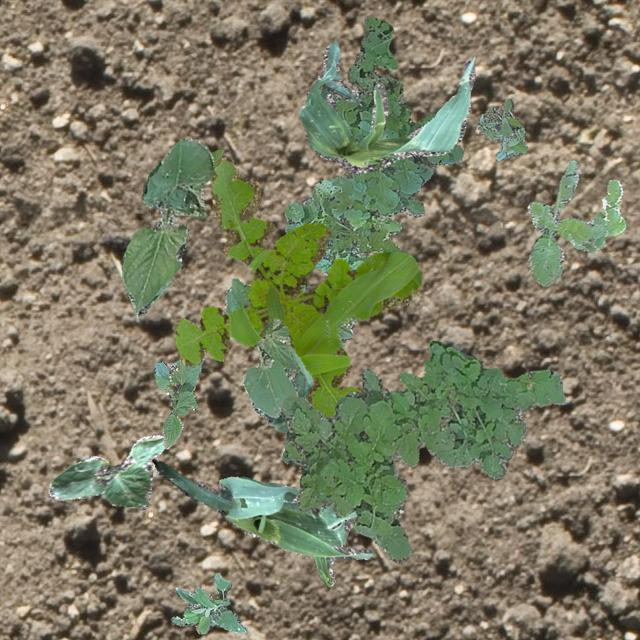crop: (152, 458, 372, 586), (298, 41, 474, 172), (224, 276, 356, 418), (120, 137, 212, 316), (48, 434, 164, 508), (154, 358, 200, 448), (267, 371, 311, 446), (210, 148, 222, 168)
weed: (174, 156, 420, 416), (278, 339, 564, 562), (284, 14, 464, 272), (526, 160, 624, 286), (170, 572, 247, 632), (476, 98, 526, 160)
